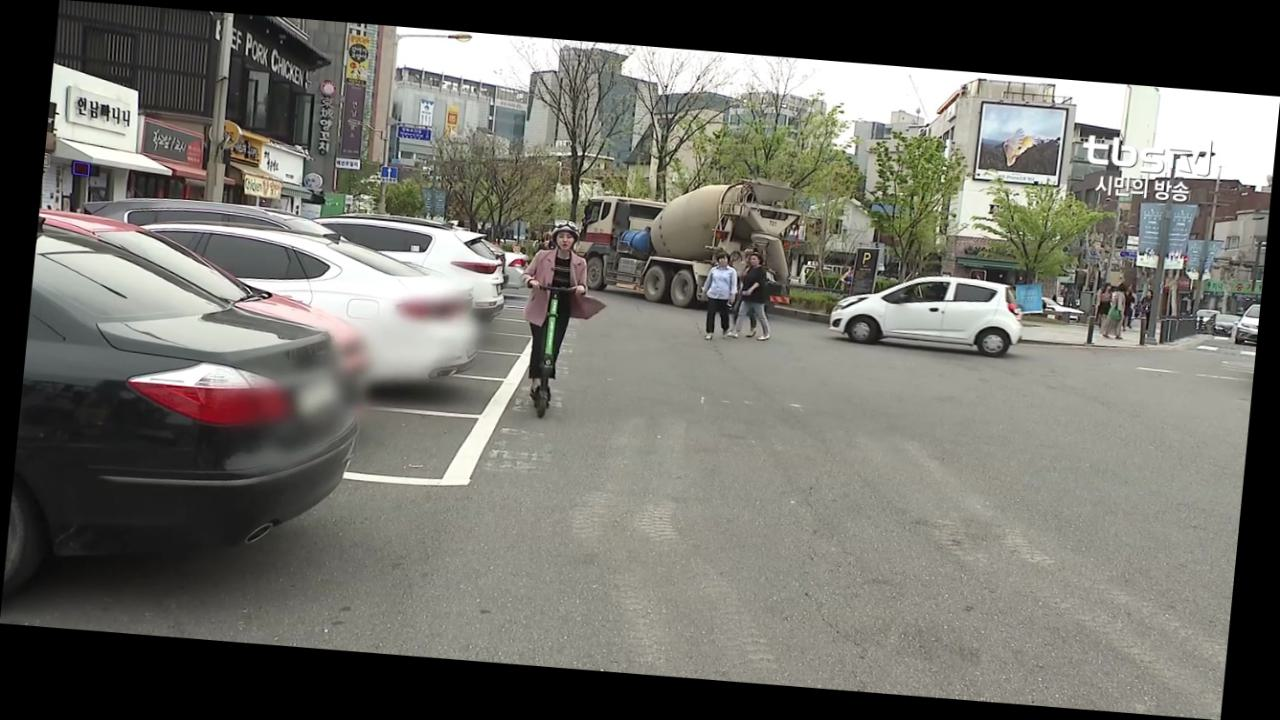helmet: (506, 215, 617, 421)
